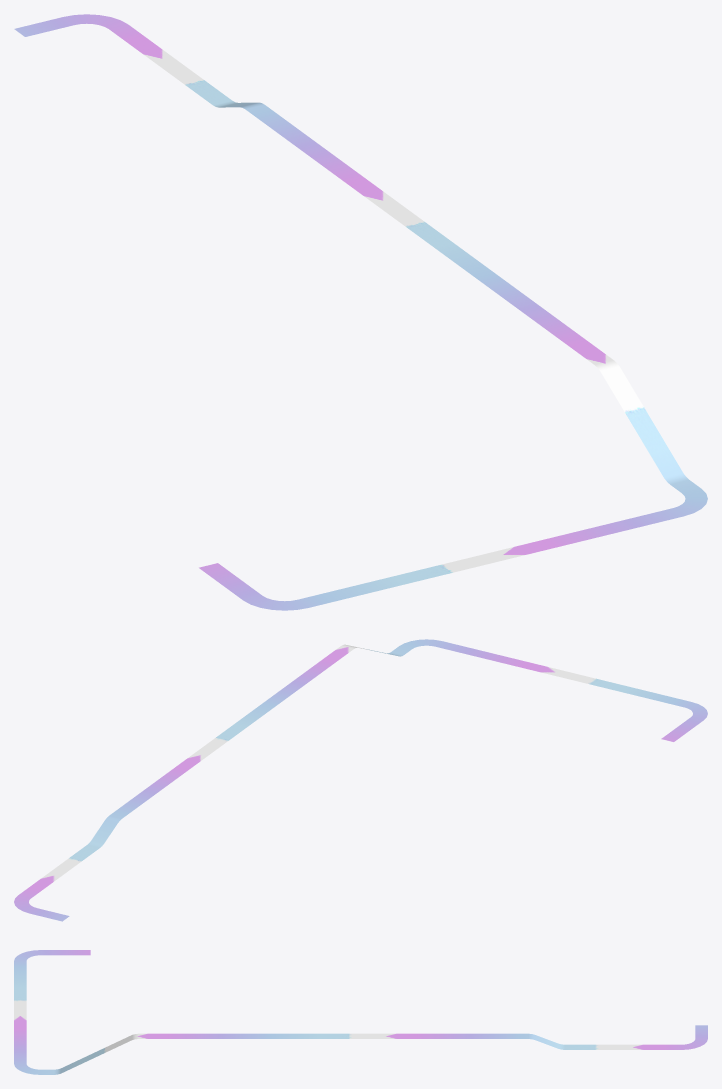
The model's file is LococomtionLine_6_5_DrawbridgeButton.fbx.
3 renders of one model, top to bottom at view 1: azimuth 30°, elevation 25°; view 2: azimuth 150°, elevation 25°; view 3: azimuth 270°, elevation 25°, orthographic. The views are drawn at different scales.
Parts seen in each view (by area): view 1: LococomtionLine_6_5_DrawbridgeButton; view 2: LococomtionLine_6_5_DrawbridgeButton; view 3: LococomtionLine_6_5_DrawbridgeButton.
Part boxes in pixels (x1,y1,x2,y2): LococomtionLine_6_5_DrawbridgeButton: (14,14,707,610); LococomtionLine_6_5_DrawbridgeButton: (14,639,707,921); LococomtionLine_6_5_DrawbridgeButton: (14,950,707,1074).
Bounding box in the file's own units: 472 × 63.28 × 1107.
Materials: 1 (1 with a texture image).
